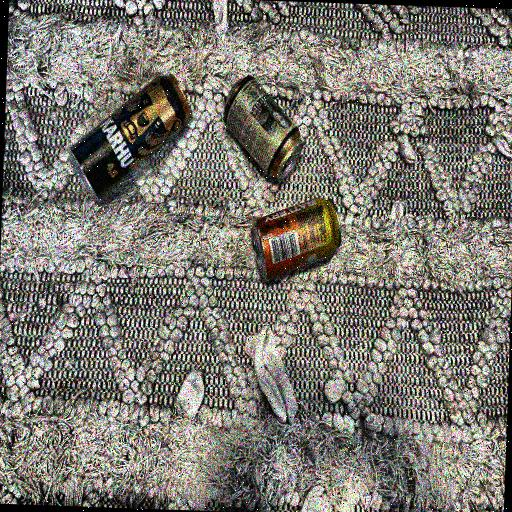karhu: (65, 64, 195, 210)
sandels: (207, 62, 310, 188)
